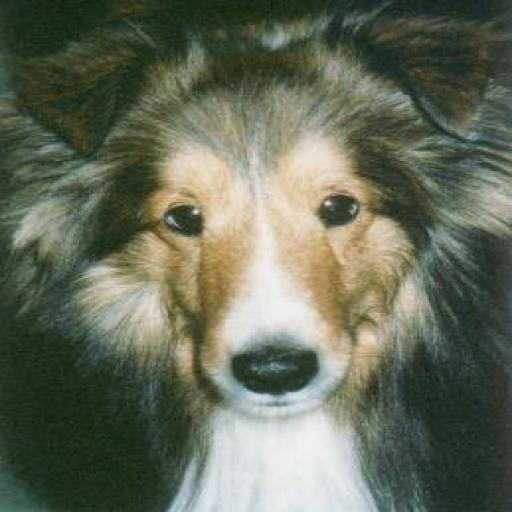dog_face: (34, 25, 498, 415)
